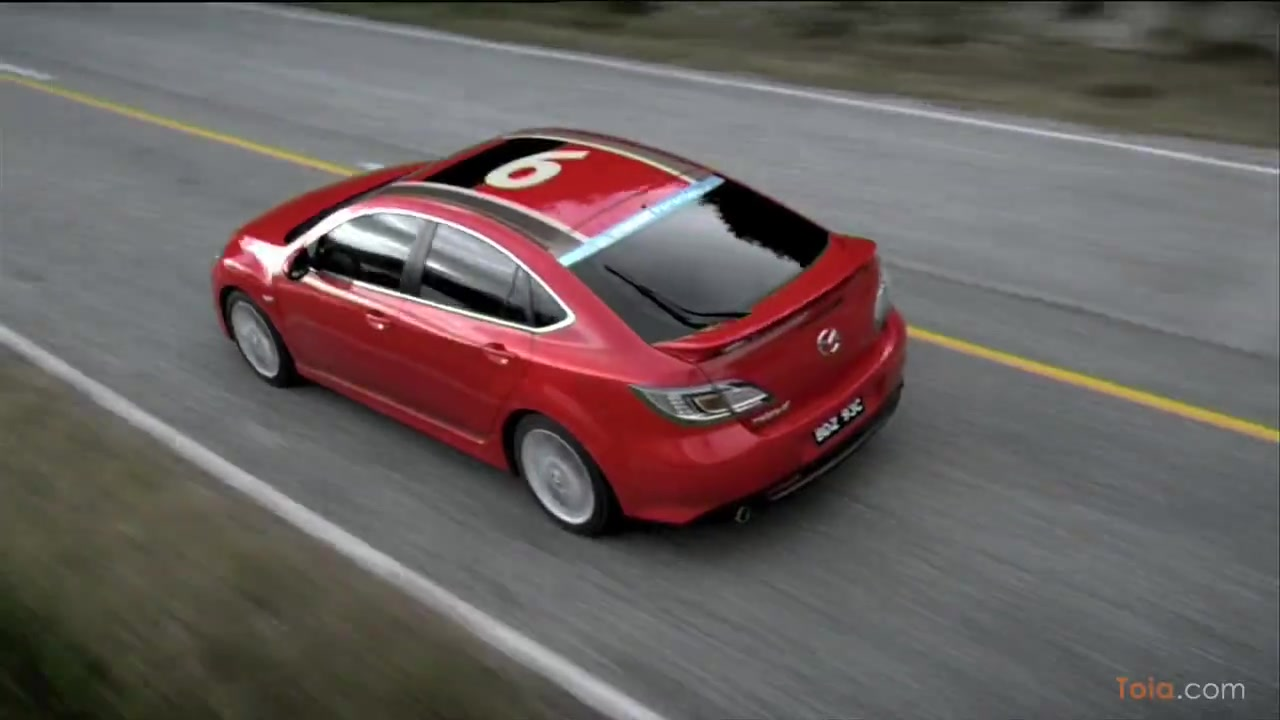car: (210, 126, 916, 547)
